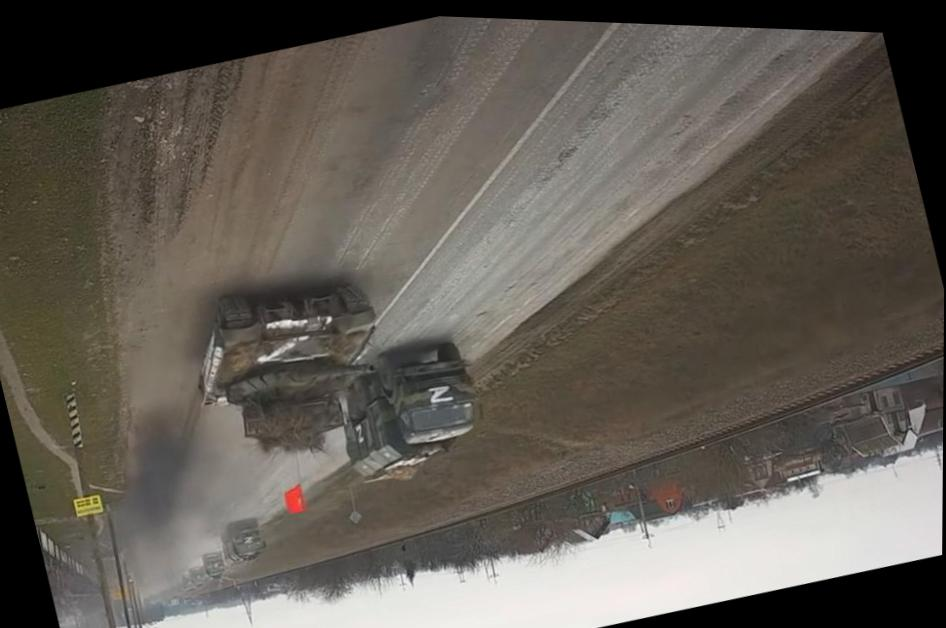tank: (168, 267, 396, 471)
truck: (329, 337, 500, 500), (215, 509, 269, 568), (199, 549, 228, 582), (184, 559, 207, 588)
